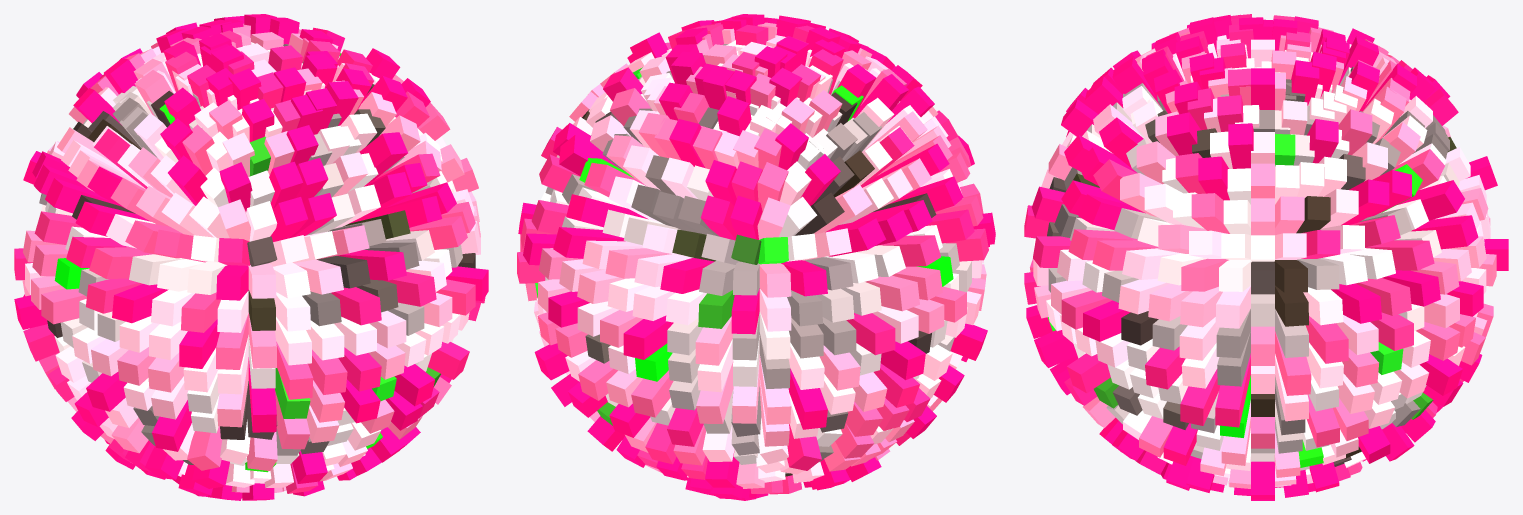
The picture shows the model from 3 angles, left to right: view 1: azimuth 30°, elevation 25°; view 2: azimuth 150°, elevation 25°; view 3: azimuth 270°, elevation 25°; orthographic projection.
Visible parts, largest first — view 1: Object_31, Object_344, Object_23, Object_78, Object_431, Object_83, Object_1, Object_170, Object_343, Object_511, Object_499, Object_70 (+161 smaller); view 2: Object_381, Object_29, Object_96, Object_293, Object_21, Object_377, Object_217, Object_553, Object_56, Object_97, Object_20, Object_19 (+158 smaller); view 3: Object_693, Object_713, Object_537, Object_553, Object_633, Object_642, Object_704, Object_698, Object_716, Object_686, Object_703, Object_673 (+156 smaller).
Boxes of the visible parts, bbox=[...] form: Object_31: bbox=[112, 284, 168, 323]; Object_344: bbox=[331, 287, 381, 325]; Object_23: bbox=[89, 247, 153, 278]; Object_78: bbox=[179, 319, 219, 368]; Object_431: bbox=[336, 250, 406, 280]; Object_83: bbox=[181, 292, 220, 332]; Object_1: bbox=[41, 288, 86, 324]; Object_170: bbox=[248, 357, 276, 432]; Object_343: bbox=[338, 347, 381, 391]; Object_511: bbox=[359, 132, 407, 182]; Object_499: bbox=[383, 272, 436, 306]; Object_70: bbox=[152, 400, 191, 451]; Object_381: bbox=[623, 315, 673, 359]; Object_29: bbox=[846, 313, 895, 355]; Object_96: bbox=[788, 368, 827, 429]; Object_293: bbox=[660, 258, 714, 293]; Object_21: bbox=[865, 275, 919, 311]; Object_377: bbox=[631, 370, 673, 417]; Object_217: bbox=[695, 316, 732, 365]; Object_553: bbox=[553, 227, 625, 258]; Object_56: bbox=[819, 345, 860, 390]; Object_97: bbox=[781, 260, 827, 296]; Object_20: bbox=[880, 341, 925, 380]; Object_19: bbox=[879, 235, 940, 266]; Object_693: bbox=[1331, 283, 1381, 323]; Object_713: bbox=[1305, 316, 1348, 363]; Object_537: bbox=[1397, 180, 1464, 220]; Object_553: bbox=[1411, 215, 1478, 249]; Object_633: bbox=[1365, 240, 1434, 270]; Object_642: bbox=[1083, 300, 1130, 341]; Object_704: bbox=[1215, 353, 1250, 427]; Object_698: bbox=[1180, 369, 1220, 425]; Object_716: bbox=[1275, 331, 1311, 395]; Object_686: bbox=[1145, 346, 1185, 389]; Object_703: bbox=[1180, 286, 1222, 327]; Object_673: bbox=[1356, 278, 1411, 315].
Bounding box in the file's own units: 2.69 × 2.75 × 2.74.
